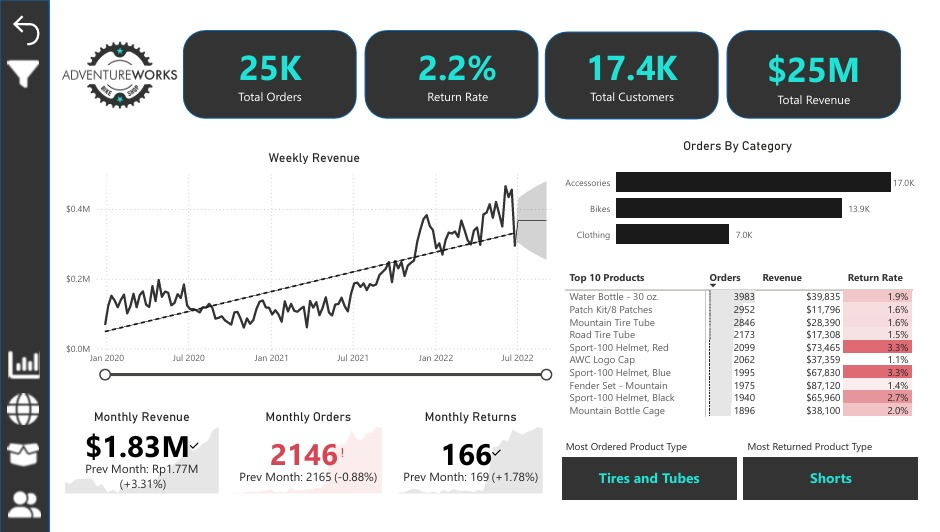

Layout of this report page (visuals, bound fields, positions):
{"tool":"powerbi","page":{"name":"Dashboard","canvas":[1280,720],"ordinal":0},"visuals":[{"type":"shape","box":[0,0,67.3,720],"z":0},{"type":"actionButton","box":[8.8,466.8,57.1,49.8],"z":0,"group":"g2"},{"type":"card","fields":{"Values":["Min(Product Subcategories Lookup.SubcategoryName)"]},"box":[758.3,616.7,235,56.7],"z":0,"group":"g1"},{"type":"shape","box":[734.7,42.9,234.2,118],"z":1000},{"type":"actionButton","box":[7.3,526.8,57.1,49.8],"z":1000,"group":"g2"},{"type":"textbox","box":[758.3,586.7,190,45],"z":1000,"group":"g1"},{"type":"shape","box":[980.5,41,234.1,118.5],"z":2000},{"type":"actionButton","box":[8.8,654.1,57.1,51.2],"z":2000,"group":"g2"},{"type":"image","box":[61.7,0,200,201.7],"z":3000},{"type":"actionButton","box":[7.3,588.3,57.1,49.8],"z":3000,"group":"g2"},{"type":"card","fields":{"Values":["Min(Product Subcategories Lookup.SubcategoryName)"]},"box":[1003,617,235,56.7],"z":4000},{"type":"textbox","box":[1003,587,190,45],"z":5000},{"type":"card","fields":{"Values":["Measure Table.Total Revenue"]},"box":[986.7,51.7,221.7,100],"z":6000},{"type":"lineChart","title":"Weekly Revenue","fields":{"Y":["Measure Table.Total Revenue"],"Category":["Calendar Lookup.Date Hierarchy.Start of Week"]},"box":[84,202,680,314],"z":7000},{"type":"kpi","title":"Monthly Revenue","fields":{"Indicator":["Measure Table.Total Revenue"],"TrendLine":["Calendar Lookup.Date Hierarchy.Start of Month"],"Goal":["Measure Table.Previous Month Revenue"]},"box":[83.3,551.7,216.7,118.3],"z":8000},{"type":"kpi","title":"Monthly Orders","fields":{"TrendLine":["Calendar Lookup.Date Hierarchy.Start of Month"],"Indicator":["Measure Table.Total Orders"],"Goal":["Measure Table.Previous Month Orders"]},"box":[311.7,551.7,208.3,118.3],"z":9000},{"type":"kpi","title":"Monthly Returns","fields":{"TrendLine":["Calendar Lookup.Date Hierarchy.Start of Month"],"Indicator":["Measure Table.Total Returns"],"Goal":["Measure Table.Previous Month Returns"]},"box":[533.3,551.7,203.3,118.3],"z":10000},{"type":"clusteredBarChart","title":"Orders By Category","fields":{"Category":["Product Categories Lookup.CategoryName"],"Y":["Measure Table.Total Orders"]},"box":[752.2,187.3,485.9,162.4],"z":11000},{"type":"pivotTable","fields":{"Rows":["Product Lookup.ProductName"],"Values":["Measure Table.Total Orders","Measure Table.Total Revenue","Measure Table.Return Rate"]},"box":[758.3,360,491.7,213.3],"z":12000},{"type":"group","id":"g1","title":"Group 1","box":[758.3,586.7,235,86.7],"z":13000},{"type":"shape","box":[491.7,41,234.1,118.5],"z":14000},{"type":"shape","box":[247.3,41,234.1,118.5],"z":15000},{"type":"card","fields":{"Values":["Measure Table.Total Customers"]},"box":[740,48.3,225,101.7],"z":16000},{"type":"card","fields":{"Values":["Measure Table.Return Rate"]},"box":[520,48.3,195,101.7],"z":17000},{"type":"card","fields":{"Values":["Measure Table.Total Orders"]},"box":[251.7,48.3,225,101.7],"z":18000},{"type":"actionButton","box":[10,15,51.7,51.7],"z":19000},{"type":"group","id":"g2","title":"Navigation Buttons","box":[7.3,466.8,58.5,238.5],"z":20000},{"type":"actionButton","box":[6.7,75,58.3,50],"z":21000}]}

Visuals, with their boxes on the page's 1280x720 design canvas (x1, y1, x2, y2). These are canvas units, not pixel positions in the 940x532 screenshot, which may show the page scaled, cropped or inside an application window:
shape: pyautogui.locateOnScreen(0, 0, 67, 720)
actionButton: pyautogui.locateOnScreen(9, 467, 66, 517)
card - Min(Product Subcategories Lookup.SubcategoryName): pyautogui.locateOnScreen(758, 617, 993, 673)
shape: pyautogui.locateOnScreen(735, 43, 969, 161)
actionButton: pyautogui.locateOnScreen(7, 527, 64, 577)
textbox: pyautogui.locateOnScreen(758, 587, 948, 632)
shape: pyautogui.locateOnScreen(980, 41, 1215, 160)
actionButton: pyautogui.locateOnScreen(9, 654, 66, 705)
image: pyautogui.locateOnScreen(62, 0, 262, 202)
actionButton: pyautogui.locateOnScreen(7, 588, 64, 638)
card - Min(Product Subcategories Lookup.SubcategoryName): pyautogui.locateOnScreen(1003, 617, 1238, 674)
textbox: pyautogui.locateOnScreen(1003, 587, 1193, 632)
card - Measure Table.Total Revenue: pyautogui.locateOnScreen(987, 52, 1208, 152)
"Weekly Revenue" lineChart: pyautogui.locateOnScreen(84, 202, 764, 516)
"Monthly Revenue" kpi: pyautogui.locateOnScreen(83, 552, 300, 670)
"Monthly Orders" kpi: pyautogui.locateOnScreen(312, 552, 520, 670)
"Monthly Returns" kpi: pyautogui.locateOnScreen(533, 552, 737, 670)
"Orders By Category" clusteredBarChart: pyautogui.locateOnScreen(752, 187, 1238, 350)
pivotTable - Product Lookup.ProductName x Measure Table.Total Orders: pyautogui.locateOnScreen(758, 360, 1250, 573)
"Group 1" group: pyautogui.locateOnScreen(758, 587, 993, 673)
shape: pyautogui.locateOnScreen(492, 41, 726, 160)
shape: pyautogui.locateOnScreen(247, 41, 481, 160)
card - Measure Table.Total Customers: pyautogui.locateOnScreen(740, 48, 965, 150)
card - Measure Table.Return Rate: pyautogui.locateOnScreen(520, 48, 715, 150)
card - Measure Table.Total Orders: pyautogui.locateOnScreen(252, 48, 477, 150)
actionButton: pyautogui.locateOnScreen(10, 15, 62, 67)
"Navigation Buttons" group: pyautogui.locateOnScreen(7, 467, 66, 705)
actionButton: pyautogui.locateOnScreen(7, 75, 65, 125)
